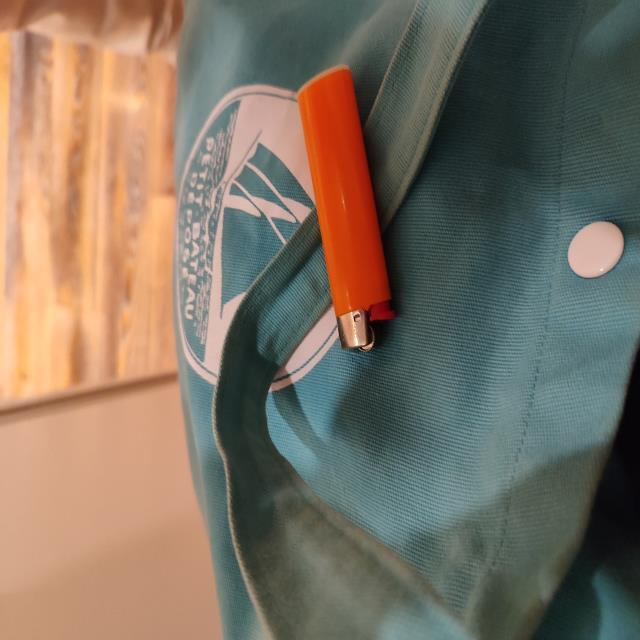lighter: (299, 67, 393, 349)
